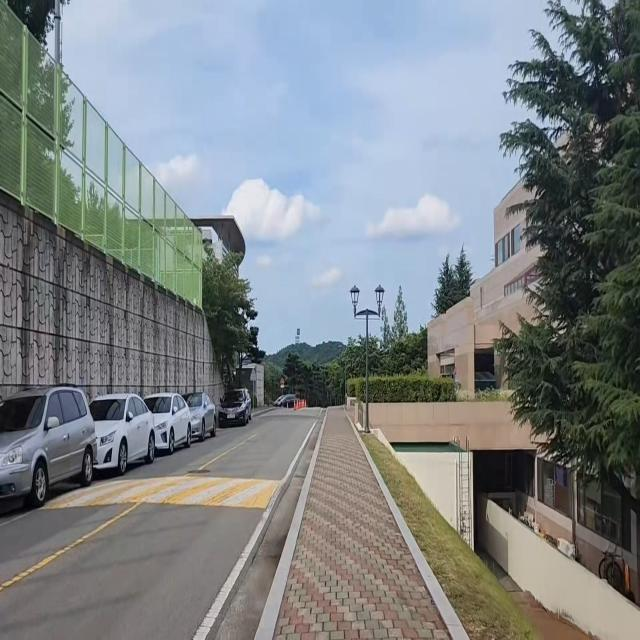obstacle: (0, 381, 258, 515)
road: (1, 415, 322, 640)
sidewalk: (250, 407, 474, 640)
